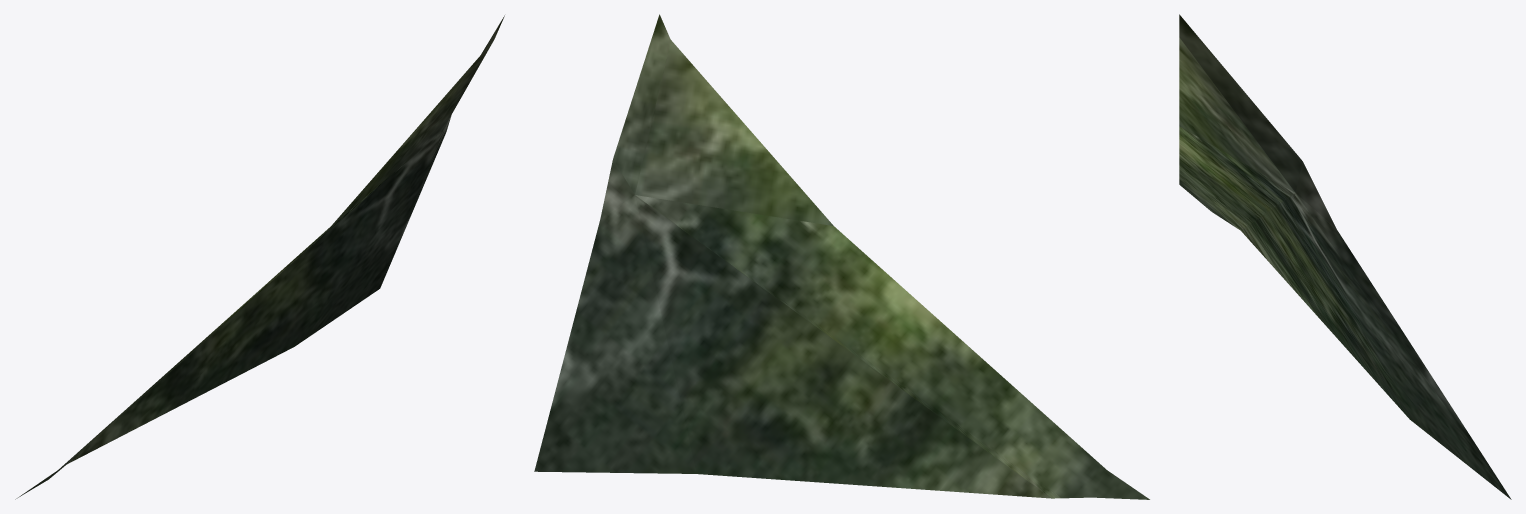
The picture shows the model from 3 angles, left to right: view 1: azimuth 30°, elevation 25°; view 2: azimuth 150°, elevation 25°; view 3: azimuth 270°, elevation 25°; orthographic projection. The views are drawn at different scales.
Bounding box in the file's own units: 4.06 × 2.89 × 1.79.
Materials: 1 (1 with a texture image).
